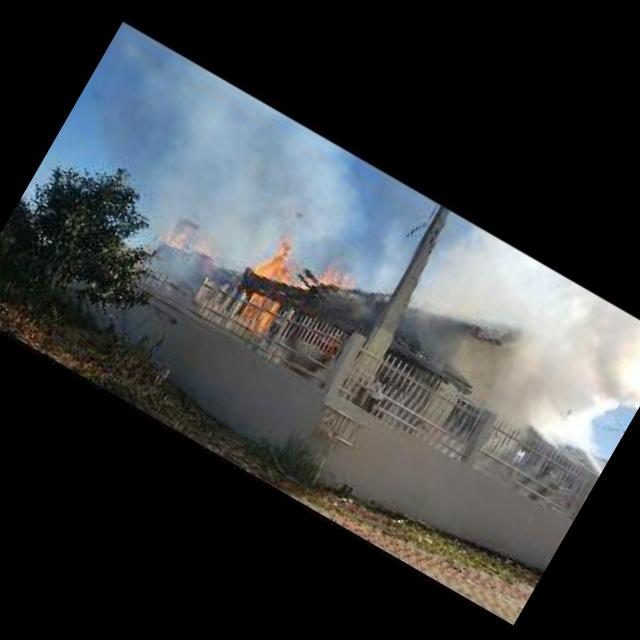fire: (233, 231, 360, 355), (162, 209, 226, 268)
smoke: (81, 34, 392, 289), (370, 224, 640, 485)
